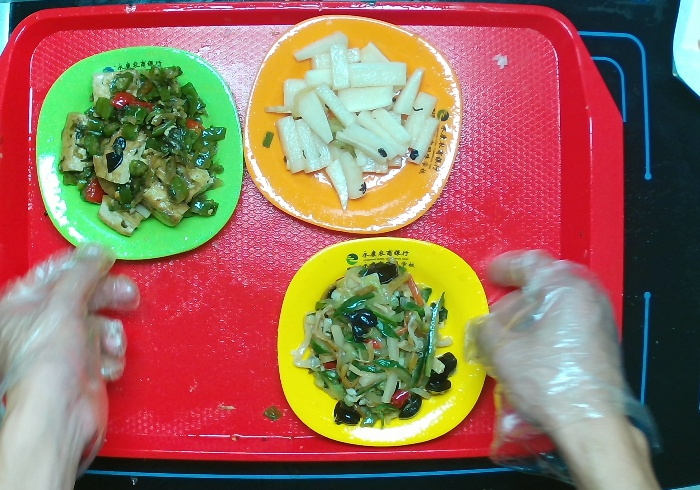YKMZ-Huang_Se_Fang_Die: (276, 235, 490, 448)
YKMZ-Ju_Se_Fang_Die: (242, 12, 464, 235)
YKMZ-Lv_Se_Fang_Die: (33, 44, 245, 262)
